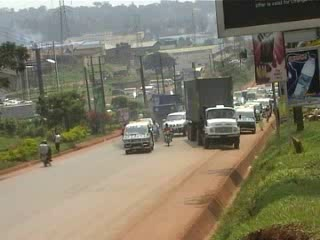Car: (160, 109, 190, 138)
Motorcycle: (35, 137, 56, 167), (161, 123, 177, 150), (150, 121, 162, 145)
